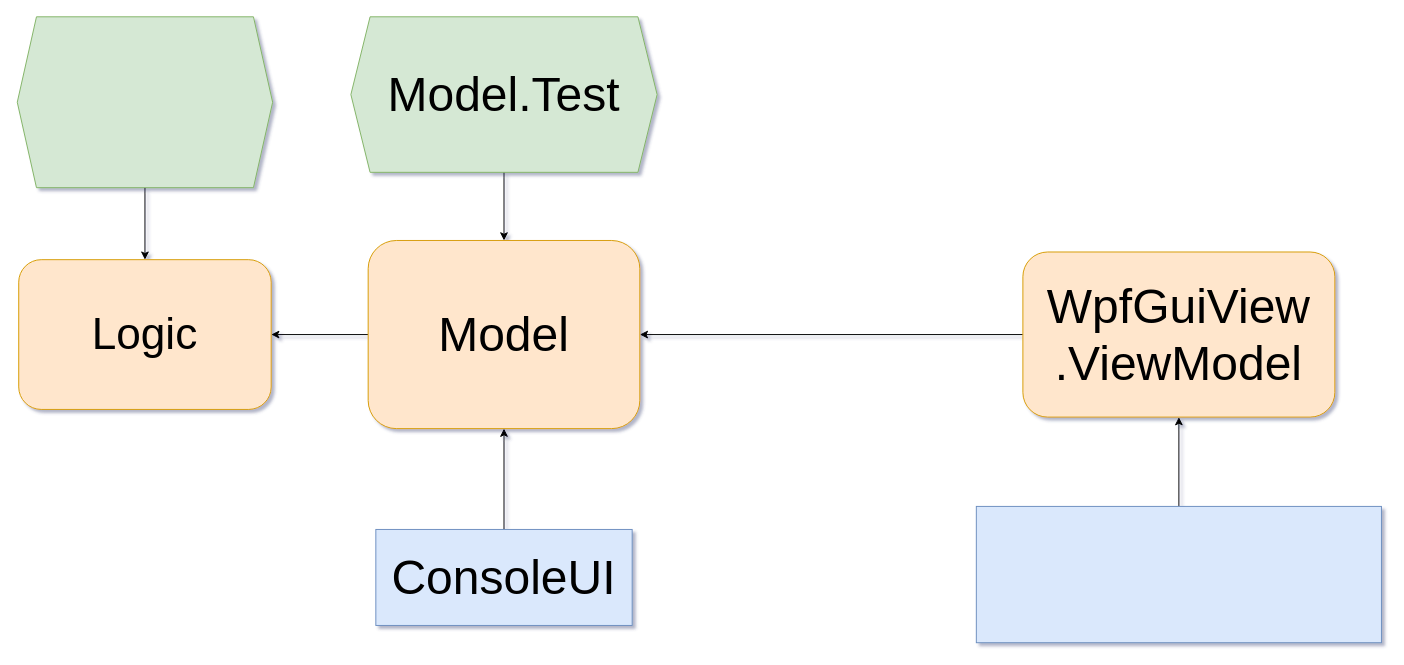
The diagram is 1404 pixels wide and 665 high, and some of its shapes have lost their labels. The centre of each missing label's shape, as x and y in pixels:
Logic.Test: the point at 144,102
WpfGuiView .MainWindow: the point at 1178,574
